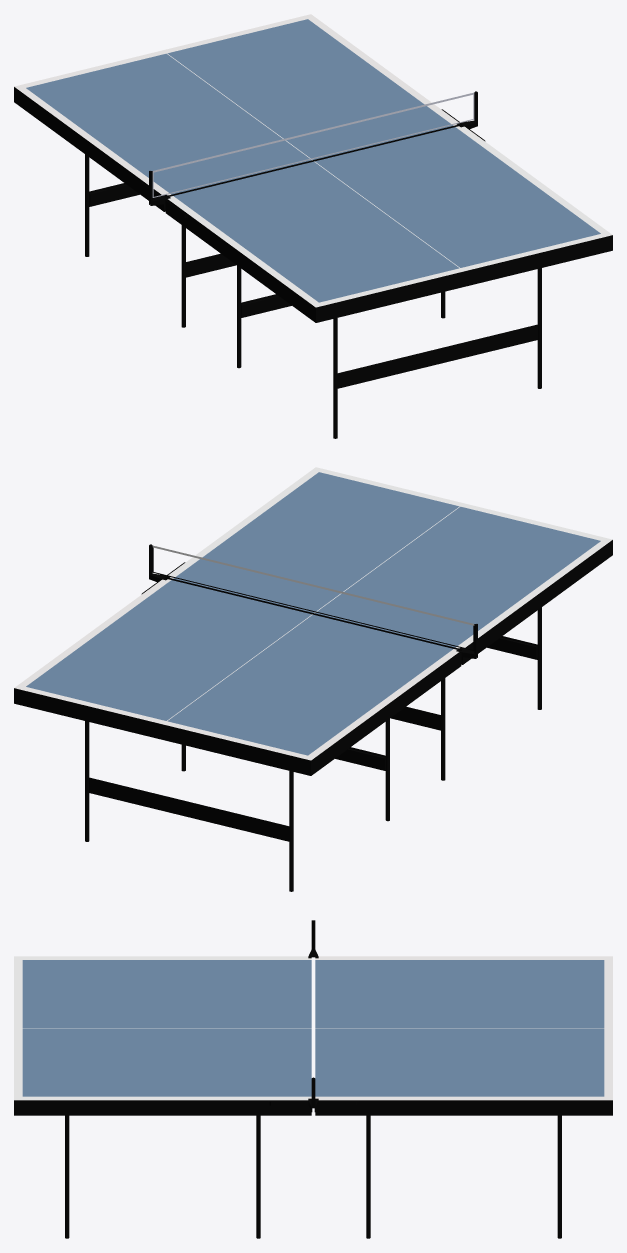
Rendered from table.gltf.
3 renders of one model, top to bottom at view 1: azimuth 30°, elevation 25°; view 2: azimuth 150°, elevation 25°; view 3: azimuth 270°, elevation 25°, orthographic.
Visible parts, largest first — view 1: table.json; view 2: table.json; view 3: table.json.
Part boxes in pixels (left/top/right/bottom): table.json: left=14, top=14, right=612, bottom=438; table.json: left=14, top=467, right=612, bottom=891; table.json: left=14, top=920, right=612, bottom=1238.
Bounding box in the file's own units: 176 × 98 × 282.
